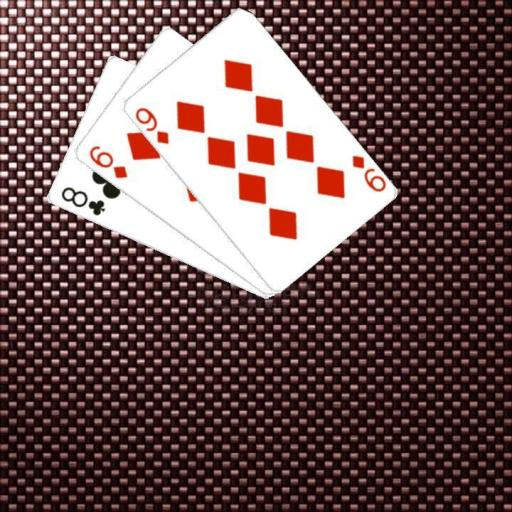card-corner: (85, 142, 129, 181), (57, 184, 107, 218), (131, 104, 170, 146), (348, 152, 387, 194)
